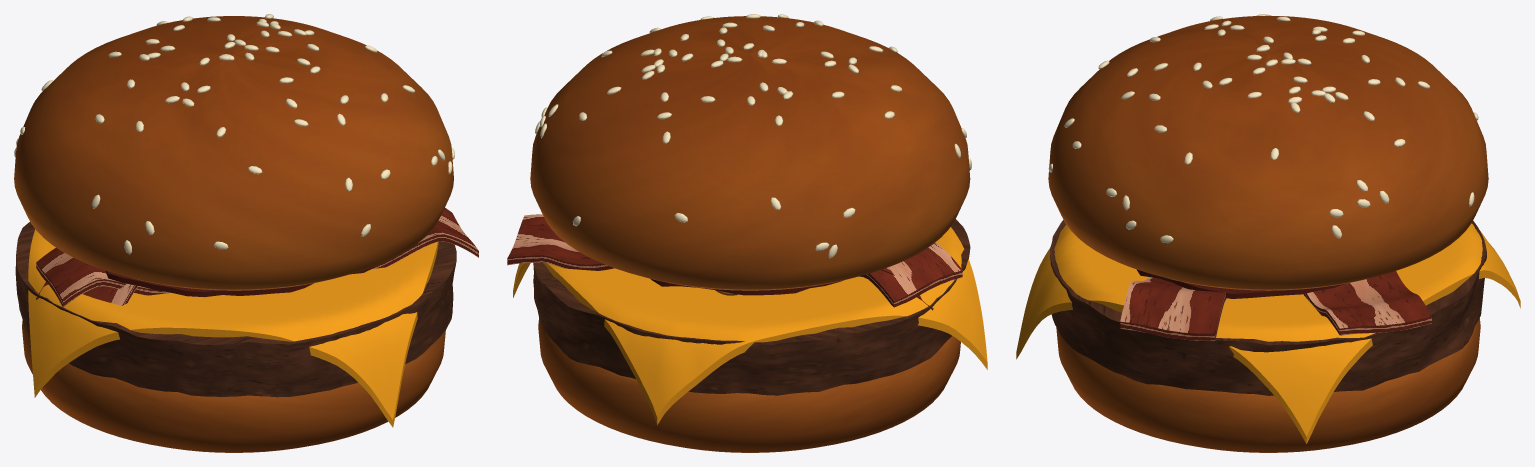
Rendered from fumaca.glb.
3 renders of one model, left to right at view 1: azimuth 30°, elevation 25°; view 2: azimuth 150°, elevation 25°; view 3: azimuth 270°, elevation 25°, orthographic.
Size of the model in its own units: 0.1283 by 0.0915 by 0.1283.
9 materials, 5 textured.
